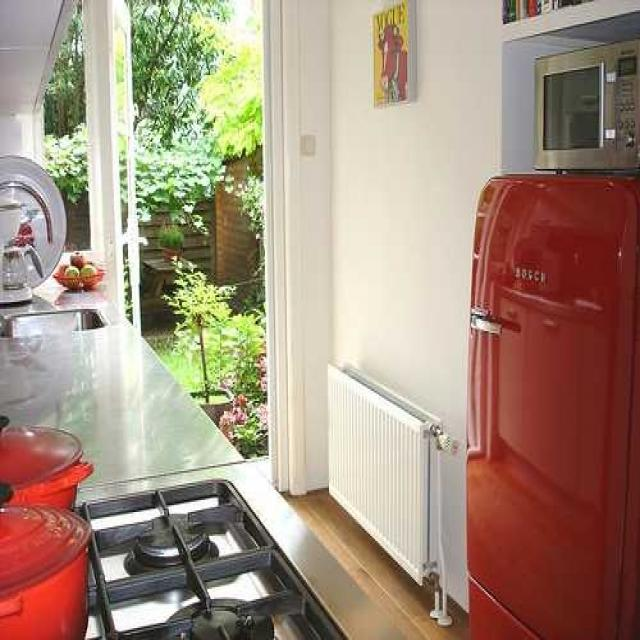refrigerator: (470, 174, 640, 640)
